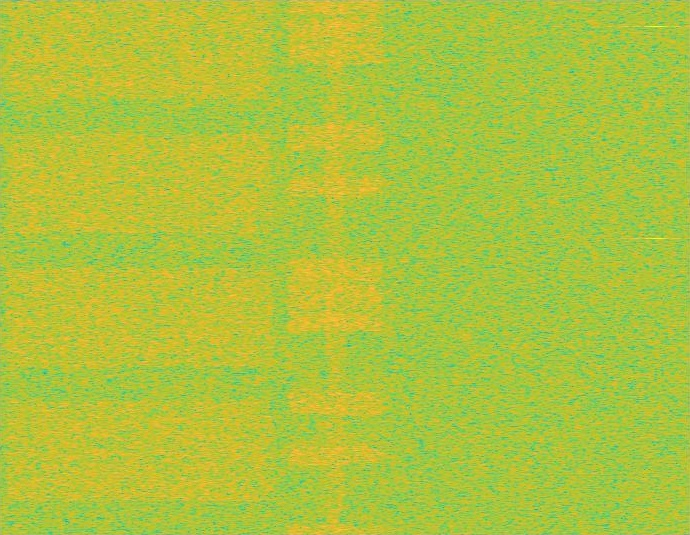5G: (2, 0, 278, 534)
DSSS: (324, 0, 347, 534)
LTE: (284, 0, 387, 534)
Radar: (650, 0, 663, 534)
